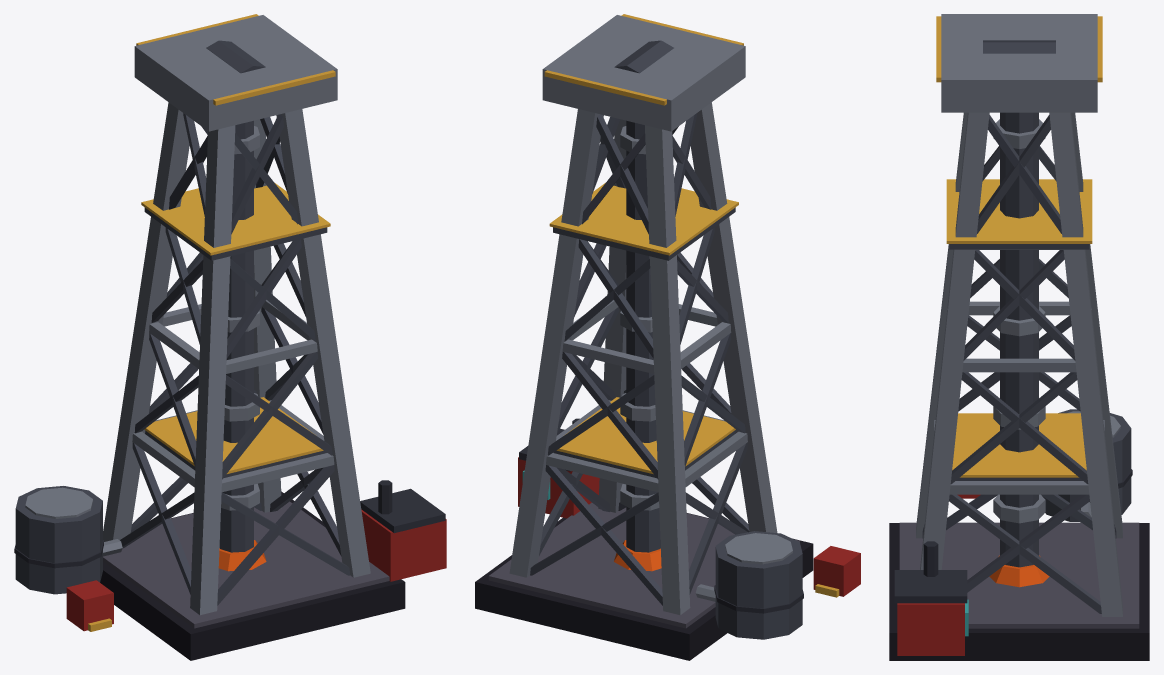
Rendered from Decor_Volcano_Drill.fbx.
3 renders of one model, left to right at view 1: azimuth 30°, elevation 25°; view 2: azimuth 150°, elevation 25°; view 3: azimuth 270°, elevation 25°, orthographic. The views are drawn at different scales.
Visible parts, largest first — view 1: Drill_Body; view 2: Drill_Body; view 3: Drill_Body.
Boxes of the visible parts, x1,y1,x2,y2 form: Drill_Body: (14, 14, 446, 660); Drill_Body: (475, 14, 860, 660); Drill_Body: (889, 14, 1149, 660).
Bounding box in the file's own units: 15.7 × 23.9 × 10.
